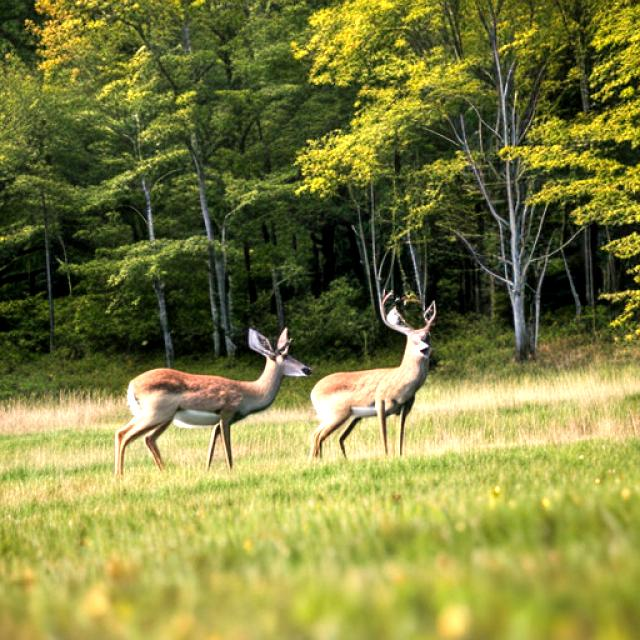deer: (99, 299, 306, 482), (299, 274, 448, 468)
